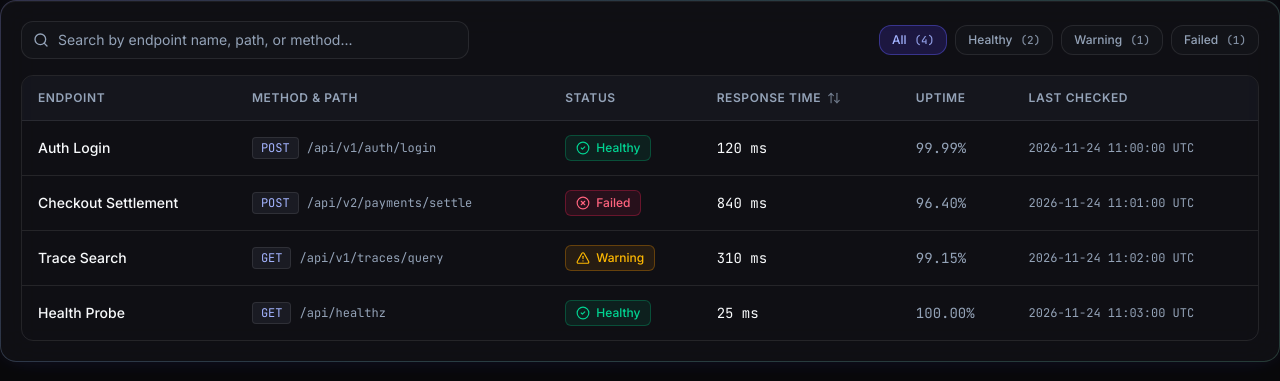
Test: EndpointTable › filters by search query and clears via Clear search button
Type "Checkout" into the search field named "search endpoints" at (245, 40), box [21,21,469,59]
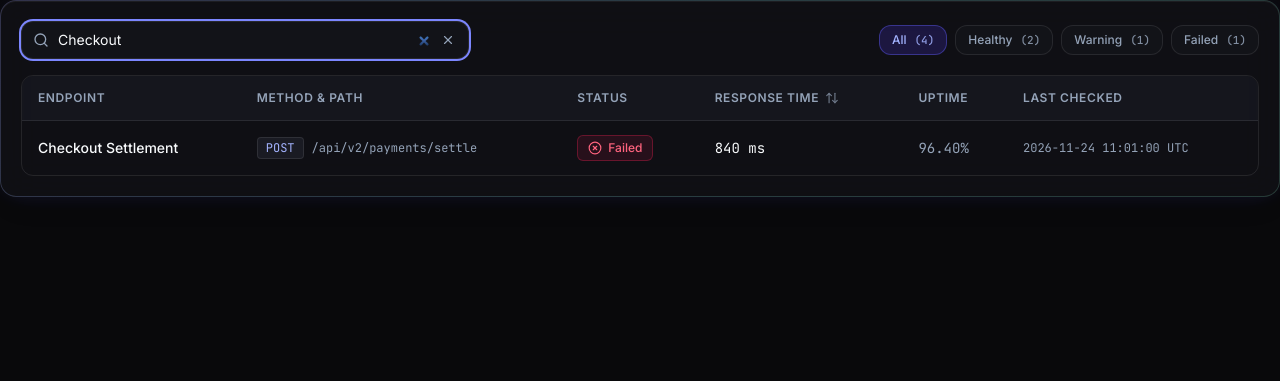
Expected: the text "Checkout Settlement" is shown, [22,120,241,175]
Now the text "Auth Login" is gone
Click the button named "clear search" at (448, 40), box [437,29,459,51]
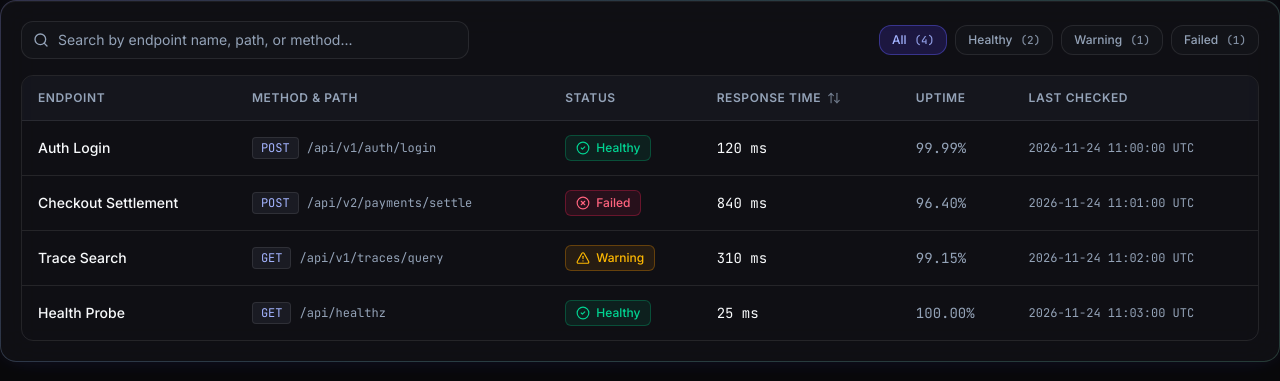
Now the search field named "search endpoints" is empty, box [21,21,469,59]
Now the text "Auth Login" is shown, box [22,120,236,176]
Now the text "Health Probe" is shown, box [22,286,236,340]
